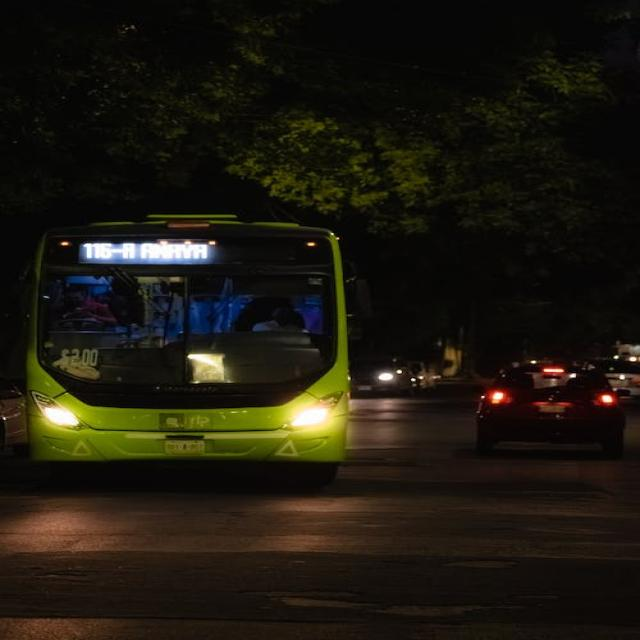bus: (27, 211, 350, 478)
car: (472, 364, 626, 452), (342, 354, 414, 398)
